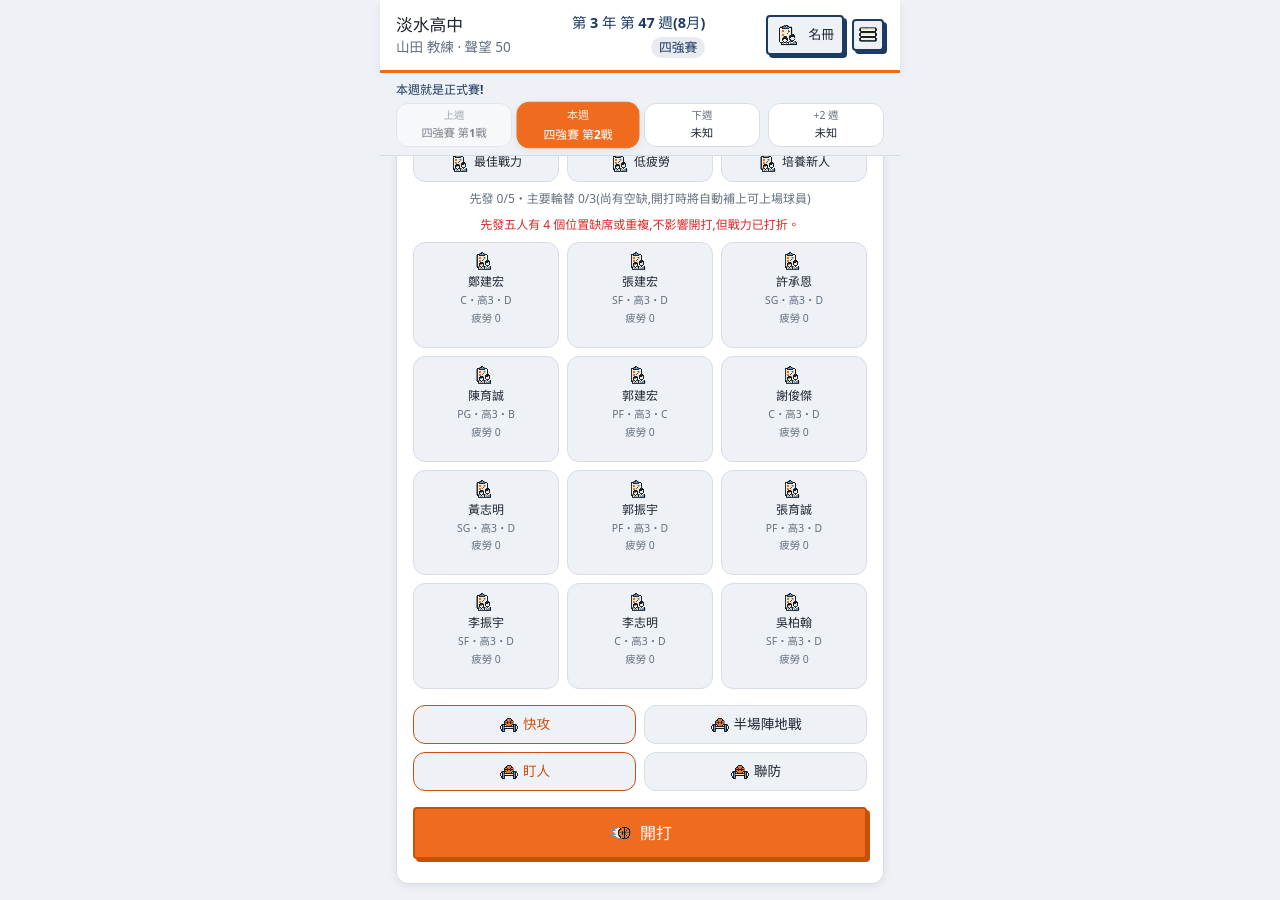
Test: App › forces the career to end once the insurance cap of eras is reached, without champion
The width and height of the screenshot is (1280, 900).
(page scrolled)
Click the button "開打": {"x": 640, "y": 834} [413, 808, 867, 860]
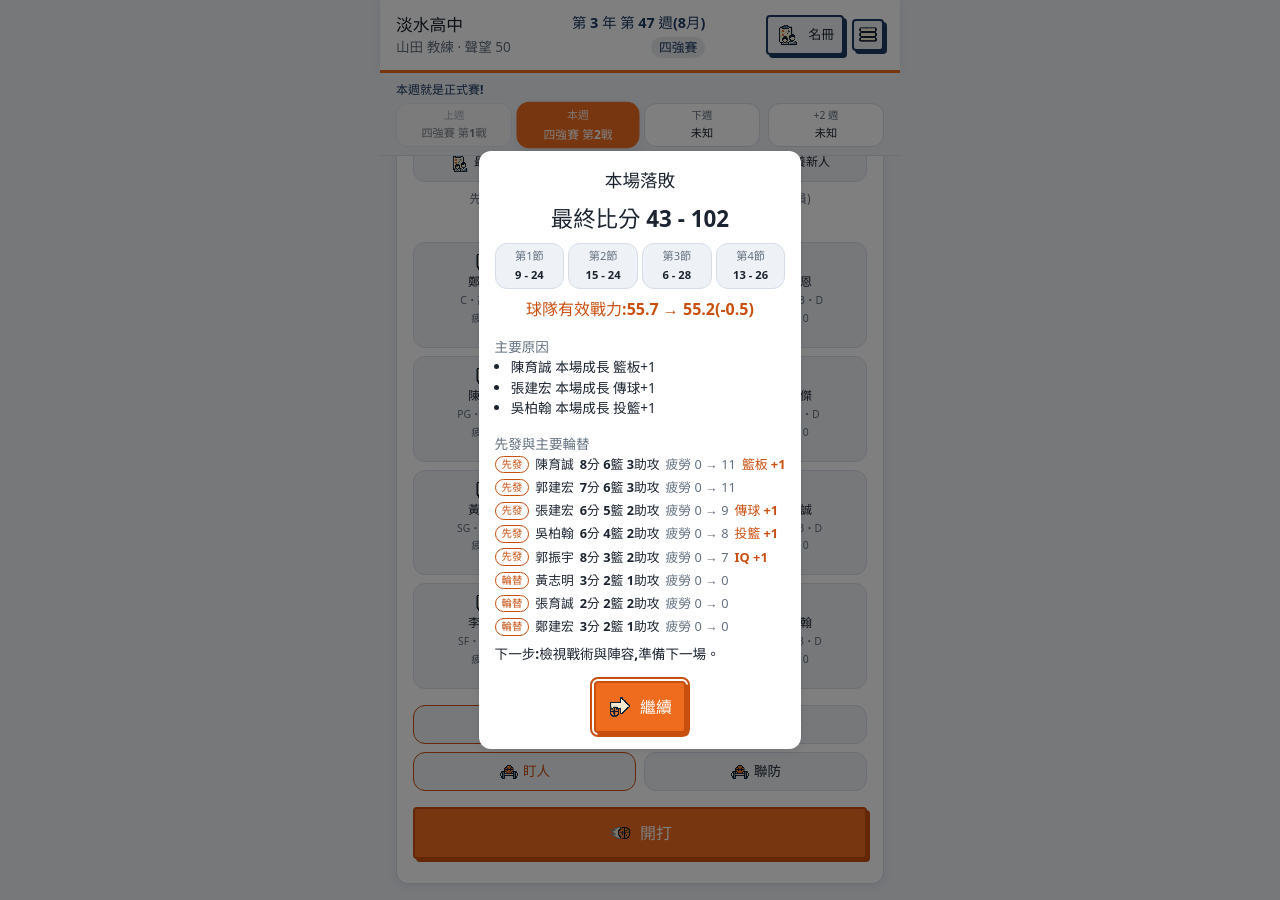
Click the button "繼續": {"x": 640, "y": 707} [594, 681, 686, 733]
(page scrolled)
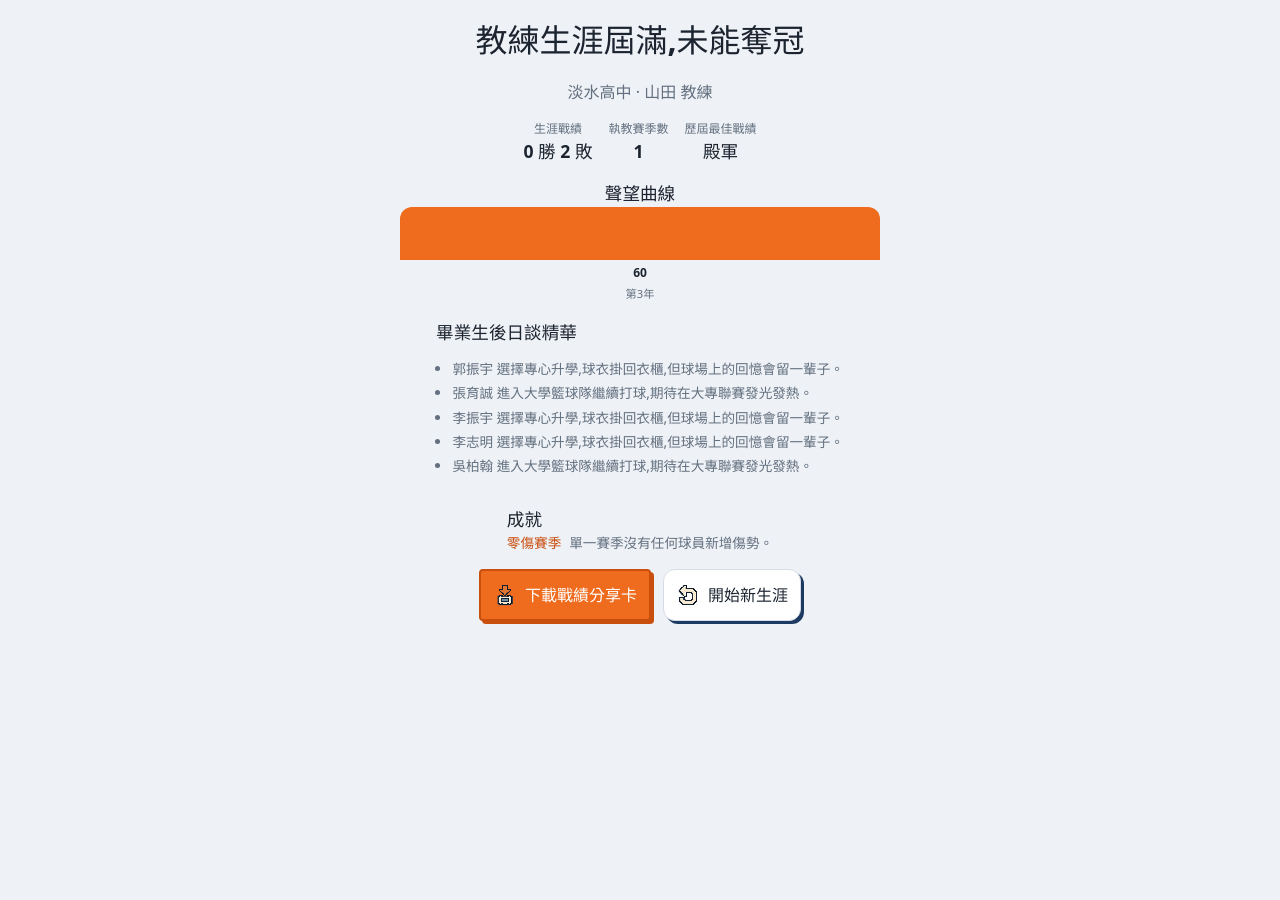
Now the heading "教練生涯屆滿,未能奪冠" is shown, box [475, 16, 804, 64]
